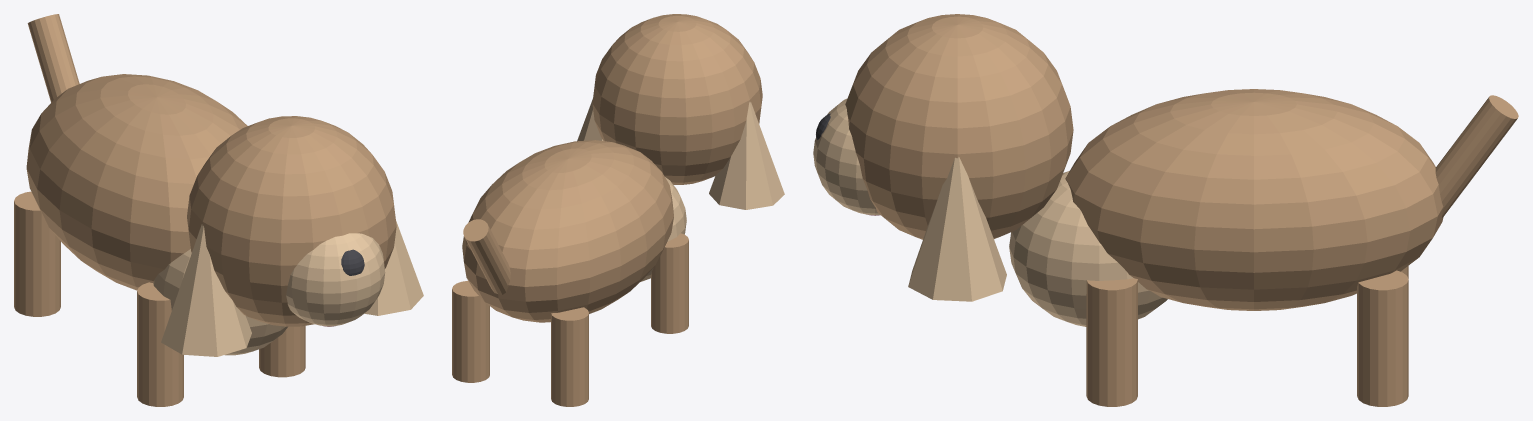
The model's file is dog.glb.
The picture shows the model from 3 angles, left to right: view 1: azimuth 30°, elevation 25°; view 2: azimuth 150°, elevation 25°; view 3: azimuth 270°, elevation 25°; orthographic projection. The views are drawn at different scales.
Parts seen in each view (by area): view 1: DgBody, DgHead, DgSnout, DgEarL, DgLeg.002, DgLeg, DgTail, DgEarR, DgLeg.001, DgChest, DgNose; view 2: DgBody, DgHead, DgEarL, DgLeg.002, DgLeg.003, DgLeg, DgTail, DgChest, DgEarR; view 3: DgBody, DgHead, DgChest, DgEarR, DgLeg.003, DgLeg.001, DgTail, DgSnout.
Boxes of the visible parts, x1,y1,x2,y2 form: DgBody: (26,74,247,290); DgHead: (187,116,396,326); DgSnout: (286,233,385,326); DgEarL: (161,224,251,356); DgLeg.002: (14,191,60,316); DgLeg: (137,282,183,406); DgTail: (27,14,79,102); DgEarR: (364,221,423,315); DgLeg.001: (259,326,305,377); DgChest: (153,249,287,355); DgNose: (341,249,364,275); DgBody: (462,140,673,322); DgHead: (592,14,762,184); DgEarL: (709,102,784,209); DgLeg.002: (551,307,588,406); DgLeg.003: (452,280,489,382); DgLeg: (651,233,688,333); DgTail: (463,219,510,294); DgChest: (641,177,686,281); DgEarR: (577,99,603,141); DgBody: (1065,89,1443,310); DgHead: (845,14,1073,239); DgChest: (1009,170,1167,326); DgEarR: (908,157,1006,301); DgLeg.003: (1357,270,1408,406); DgLeg.001: (1086,278,1137,406); DgTail: (1435,95,1518,217); DgSnout: (813,98,879,215).
Size of the model in its own units: 1.22 by 1.45 by 2.74.
